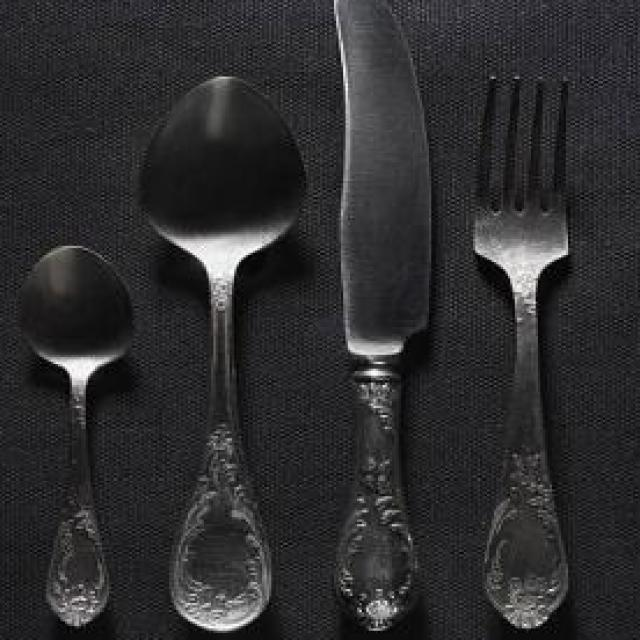knife: (323, 0, 434, 635)
